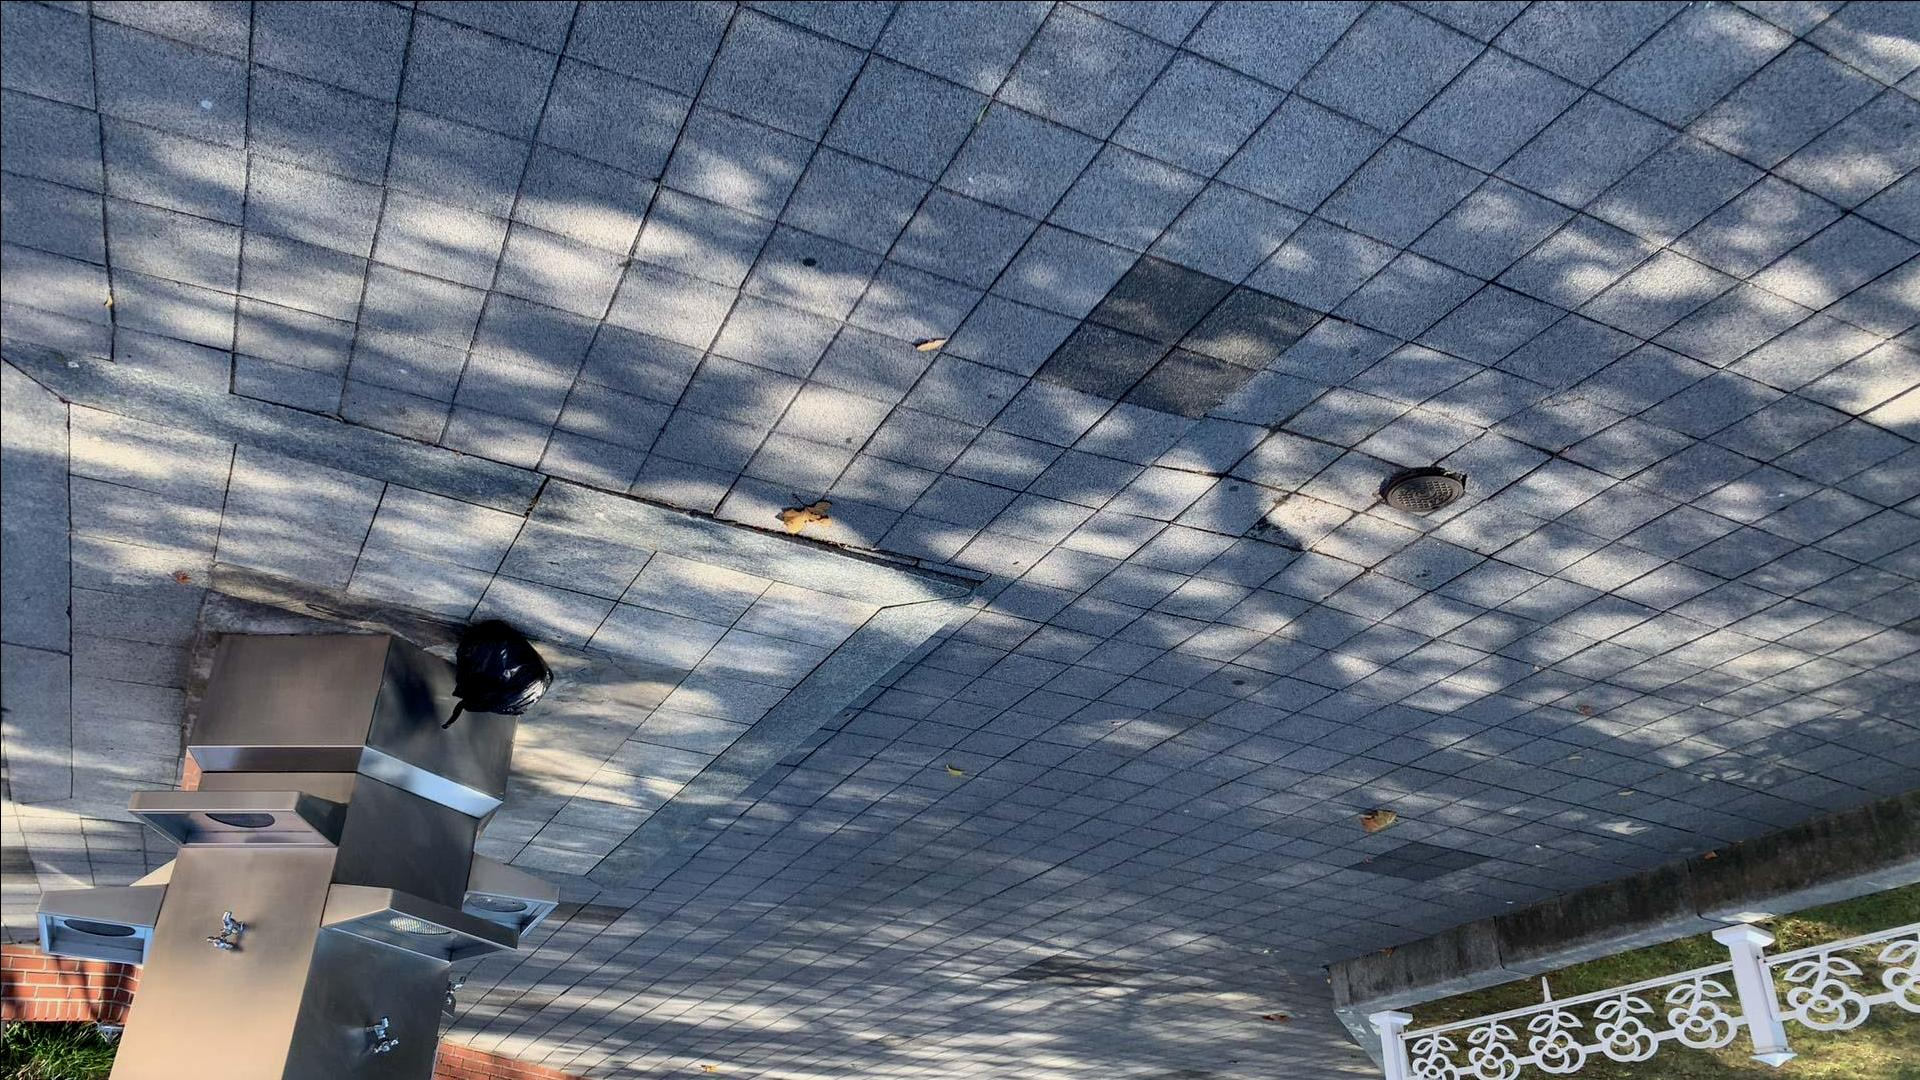black_bag: (431, 615, 560, 738)
